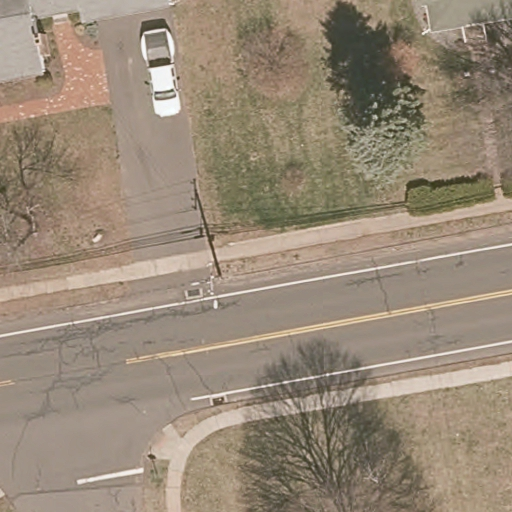DT: (190, 261, 220, 309)
